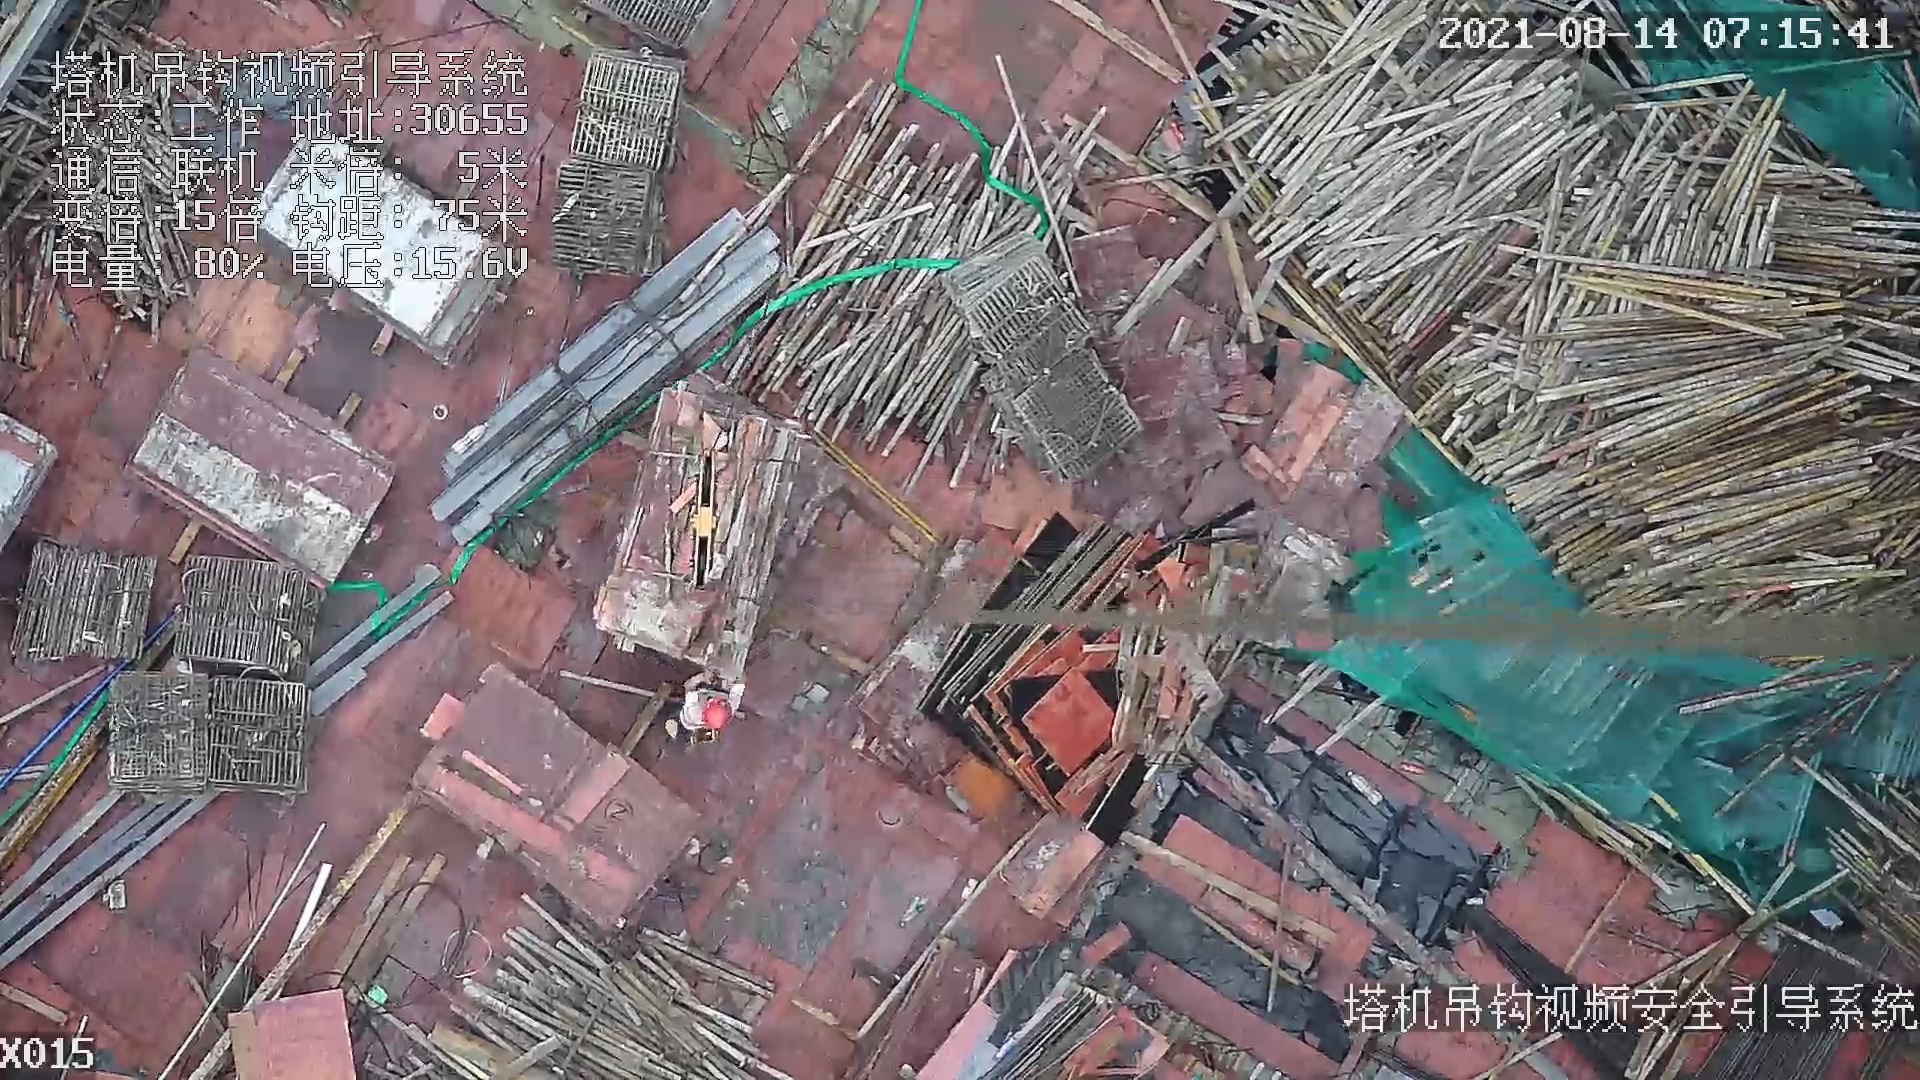helmet: (701, 697, 737, 738)
hook: (685, 449, 719, 591)
person: (663, 673, 759, 744)
